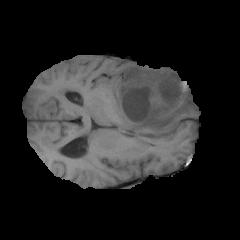glioma: (111, 66, 195, 135)
